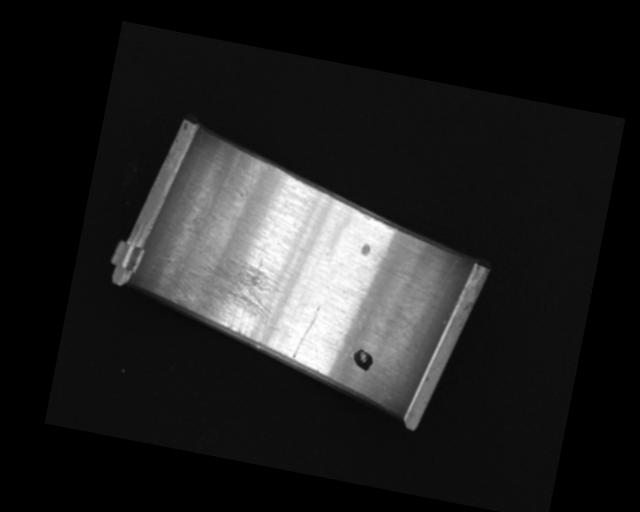blot: (349, 347, 375, 372)
bruise: (359, 242, 372, 258)
nick: (401, 247, 459, 336), (291, 301, 322, 361)
scratch: (166, 244, 284, 346)
